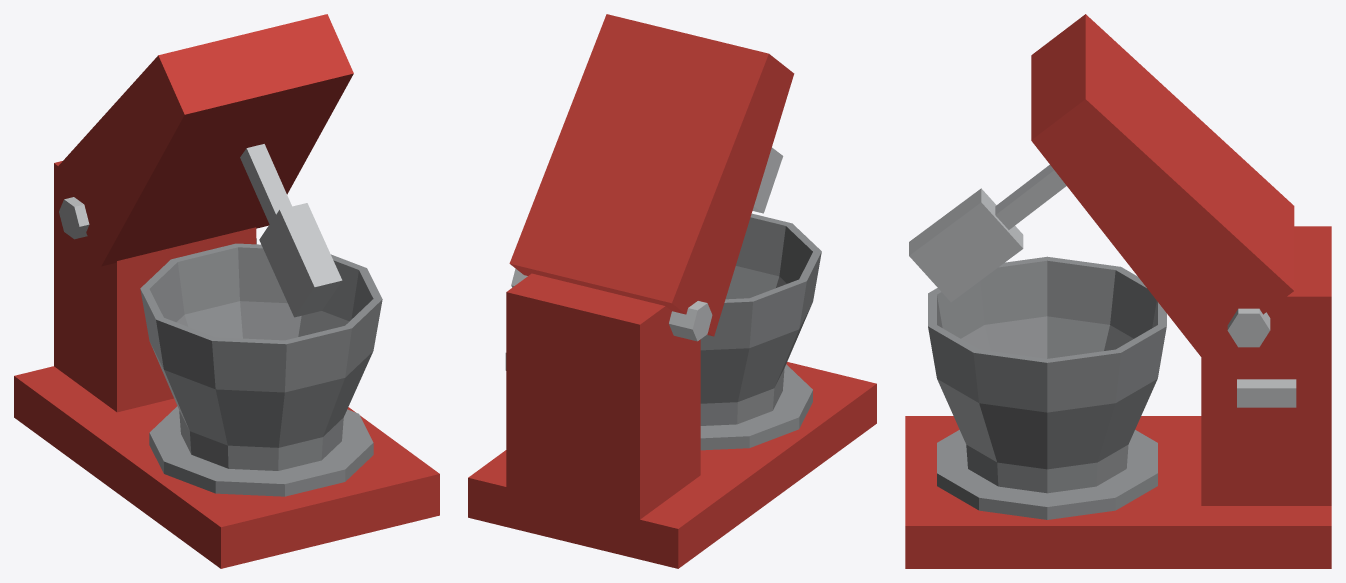
The model's file is FN_Mixer_Stand.glb.
3 renders of one model, left to right at view 1: azimuth 30°, elevation 25°; view 2: azimuth 150°, elevation 25°; view 3: azimuth 270°, elevation 25°, orthographic. The views are drawn at different scales.
Visible parts, largest first — view 1: FN_Mixer_Stand; view 2: FN_Mixer_Stand; view 3: FN_Mixer_Stand.
Part boxes in pixels (box(x1,y1,x2,y2)): FN_Mixer_Stand: box(14, 14, 439, 568); FN_Mixer_Stand: box(468, 14, 876, 568); FN_Mixer_Stand: box(905, 14, 1331, 568).
Bounding box in the file's own units: 0.22 × 0.4258 × 0.36.
1 material, 1 textured.
